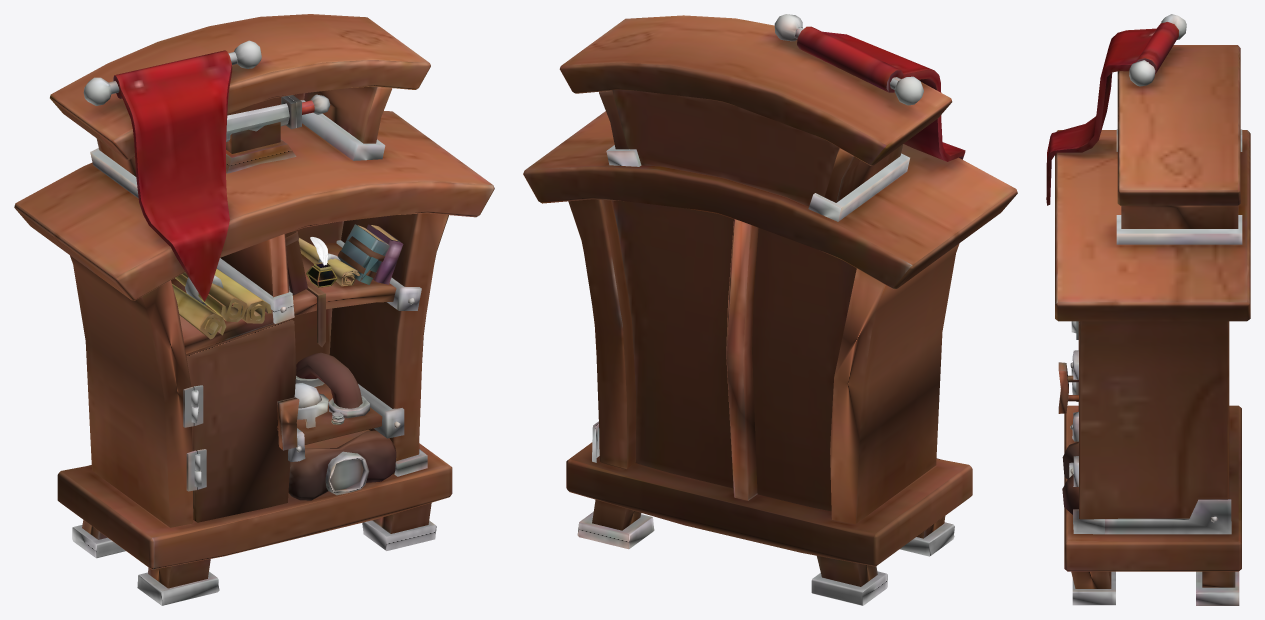
File: PRP_Bookshelf_lod.glb
The picture shows the model from 3 angles, left to right: view 1: azimuth 30°, elevation 25°; view 2: azimuth 150°, elevation 25°; view 3: azimuth 270°, elevation 25°; orthographic projection. The views are drawn at different scales.
Visible parts, largest first — view 1: Flag_low_Bookcase_0, Bookcase_low_Bookcase1_0; view 2: Flag_low_Bookcase_0, Bookcase_low_Bookcase1_0; view 3: Flag_low_Bookcase_0.
Part boxes in pixels (box(x1,y1,x2,y2)): Flag_low_Bookcase_0: box(14, 14, 494, 605); Bookcase_low_Bookcase1_0: box(70, 255, 193, 527); Flag_low_Bookcase_0: box(523, 14, 1017, 605); Bookcase_low_Bookcase1_0: box(830, 243, 959, 524); Flag_low_Bookcase_0: box(1046, 14, 1250, 605).
Size of the model in its own units: 5.27 by 6.72 by 2.61.
Materials: 3 (3 with a texture image).
